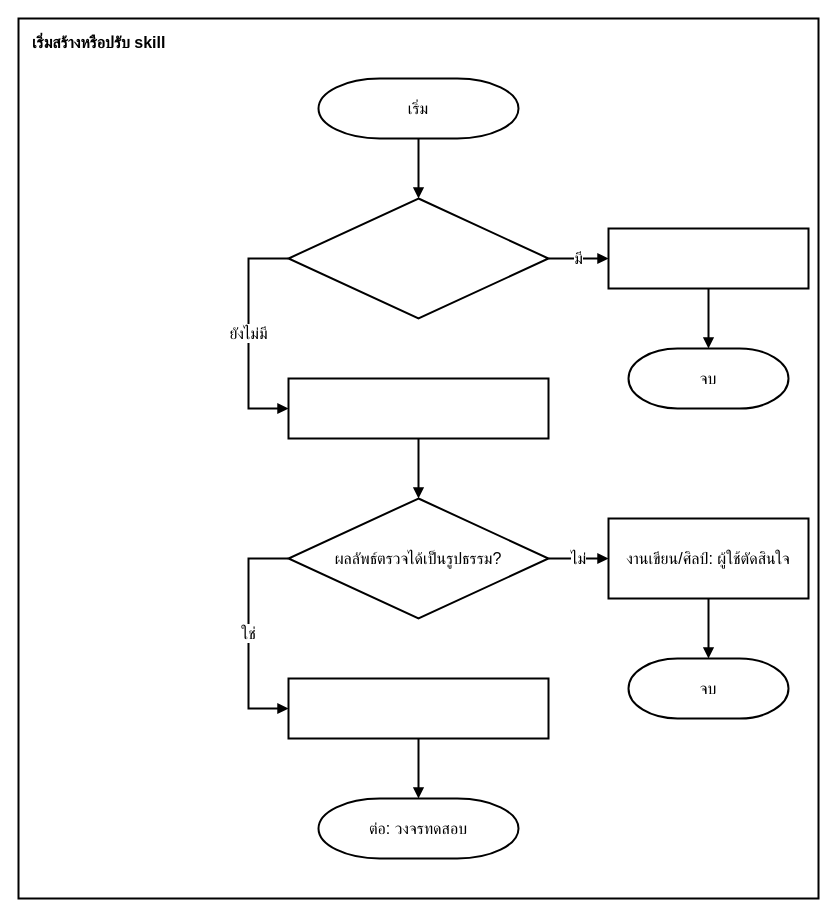
Image size: 836x916. Some labels were removed from this diagram. The box of each missing label's shape, as (x1, y1, x2, y2) in pixels:
ข้ามไปวงจรทดสอบ: (607, 227, 809, 289)
จับเจตนาจากแชท แล้วสัมภาษณ์: (287, 377, 549, 439)
มี draft แล้ว?: (287, 197, 549, 319)
เขียน SKILL.md: (287, 677, 549, 739)
